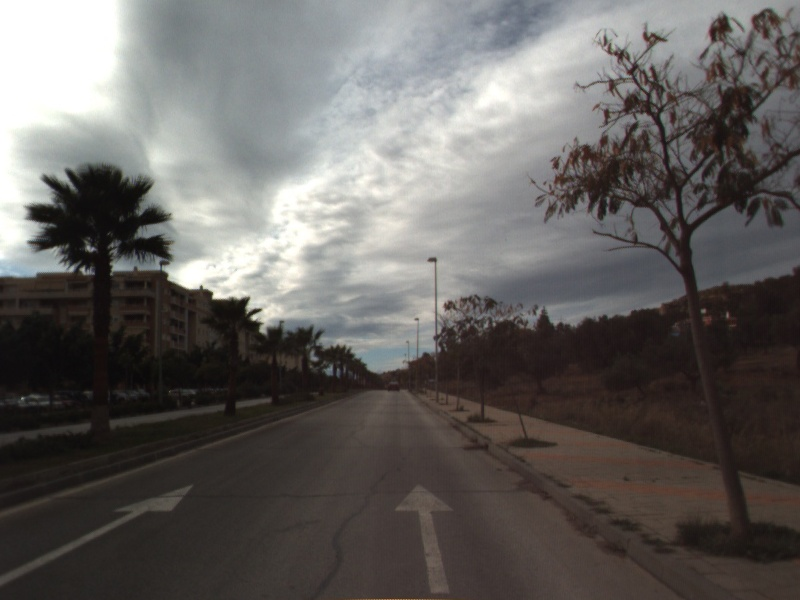STRAIGHT: (1, 481, 197, 587), (392, 481, 457, 596)
